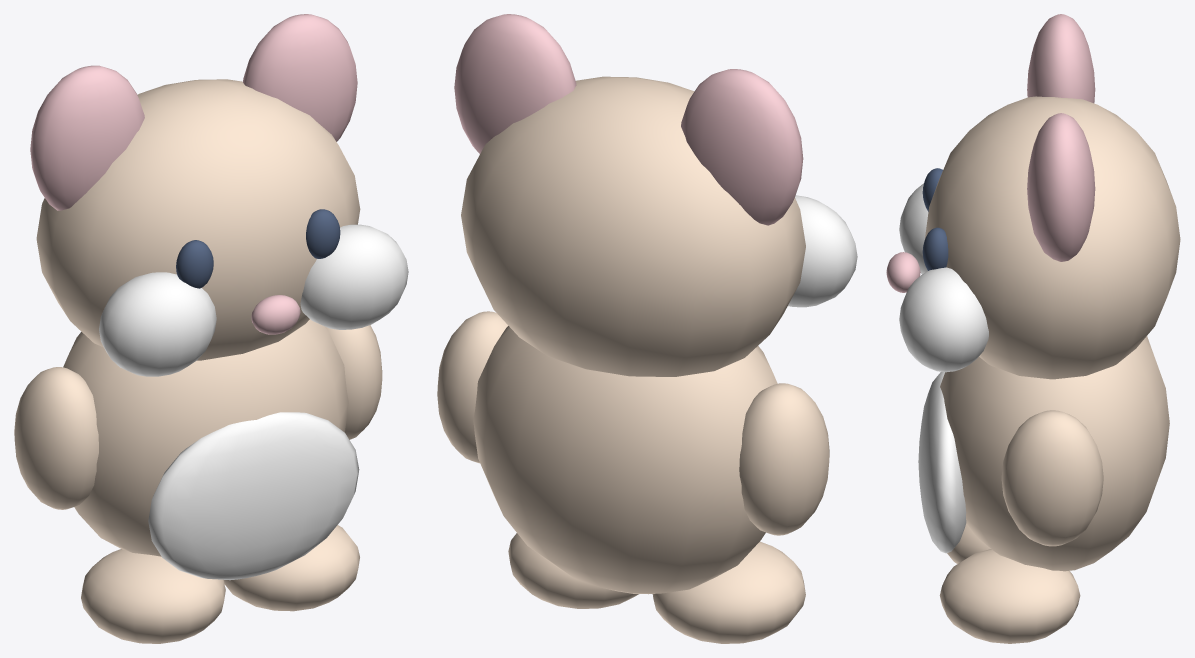
File: pet-hamster.glb
3 renders of one model, left to right at view 1: azimuth 30°, elevation 25°; view 2: azimuth 150°, elevation 25°; view 3: azimuth 270°, elevation 25°, orthographic. The views are drawn at different scales.
Visible parts, largest first — view 1: head, torso, white_belly, ear (×2), cheek (×2), foot (×2), hand (×2), eye (×2), nose; view 2: head, torso, ear (×2), hand (×2), foot (×2), cheek; view 3: head, torso, ear (×2), hand, foot (×2), cheek (×2), white_belly, eye (×2), nose.
Boxes of the visible parts, <box> form: head: <box>36,79,360,360</box>; torso: <box>63,319,348,556</box>; white_belly: <box>148,412,359,580</box>; ear (×2): <box>30,14,357,210</box>; cheek (×2): <box>99,224,408,376</box>; foot (×2): <box>81,525,359,643</box>; hand (×2): <box>14,325,382,509</box>; eye (×2): <box>176,209,340,288</box>; nose: <box>251,295,300,334</box>; head: <box>461,76,805,376</box>; torso: <box>473,326,777,594</box>; ear (×2): <box>454,14,803,225</box>; hand (×2): <box>437,311,829,535</box>; foot (×2): <box>508,533,805,643</box>; cheek: <box>788,195,857,307</box>; head: <box>925,96,1180,379</box>; torso: <box>940,336,1169,571</box>; ear (×2): <box>1027,14,1095,261</box>; hand: <box>1001,410,1103,546</box>; foot (×2): <box>939,523,1080,643</box>; cheek (×2): <box>899,183,988,372</box>; white_belly: <box>918,371,966,553</box>; eye (×2): <box>922,168,948,270</box>; nose: <box>886,252,920,292</box>.
Bounding box in the file's own units: 1.84 × 2.77 × 1.38.
